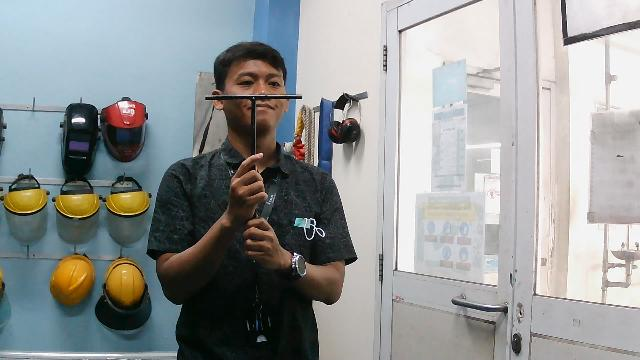kunci_t: (203, 93, 305, 220)
